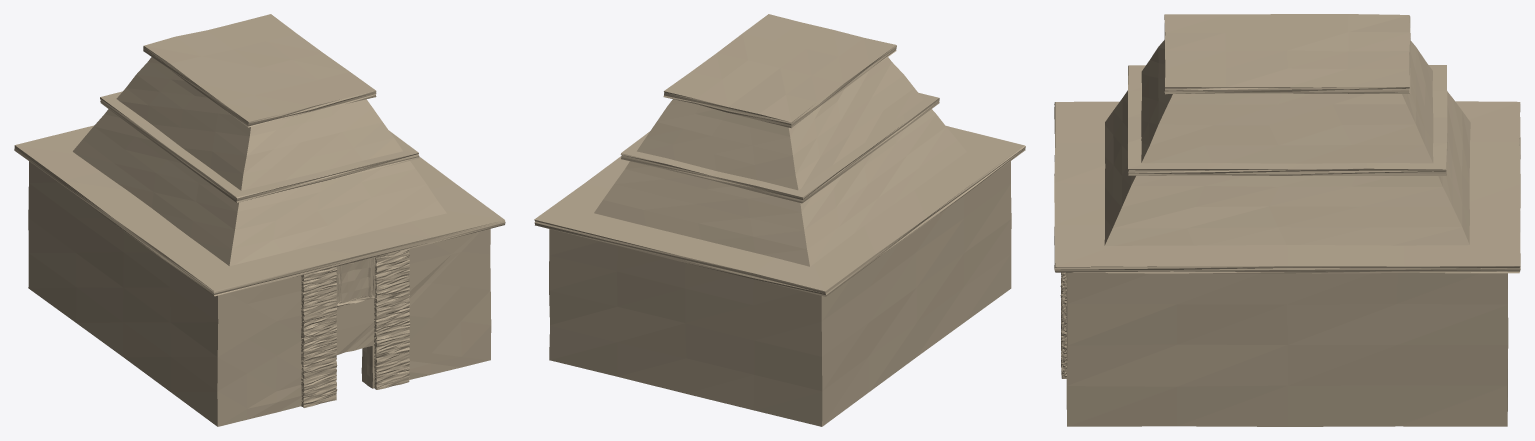
The picture shows the model from 3 angles, left to right: view 1: azimuth 30°, elevation 25°; view 2: azimuth 150°, elevation 25°; view 3: azimuth 270°, elevation 25°; orthographic projection. The views are drawn at different scales.
Visible parts, largest first — view 1: SM_Pyramid; view 2: SM_Pyramid; view 3: SM_Pyramid.
Boxes of the visible parts, x1,y1,x2,y2 form: SM_Pyramid: (14,14,505,426); SM_Pyramid: (534,14,1025,426); SM_Pyramid: (1054,14,1520,426).
Size of the model in its own units: 32.13 by 26.99 by 38.12.
